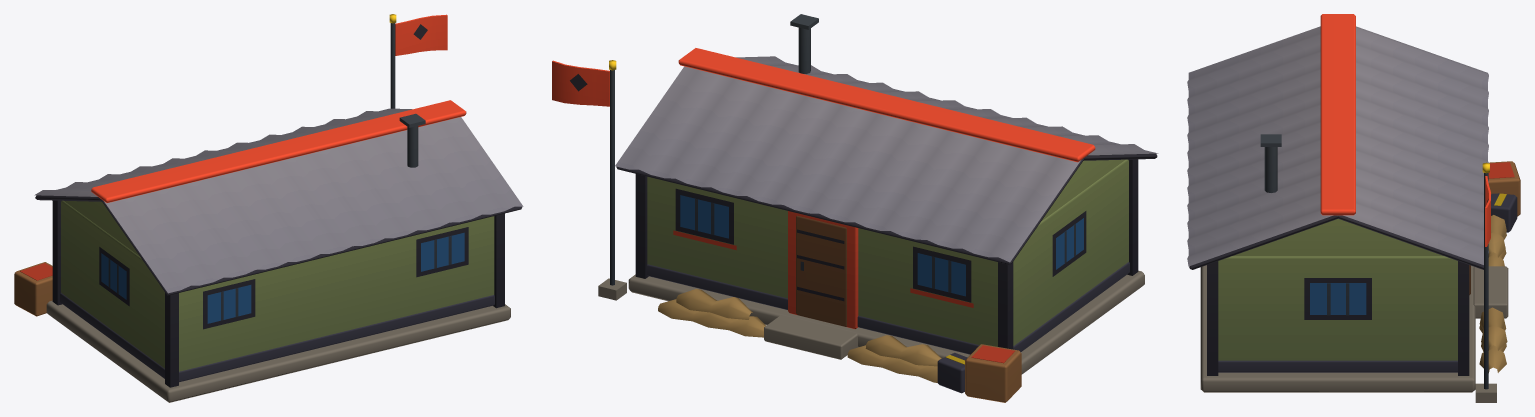
Rendered from barracks-hut.glb.
3 views of the same model, side by side, from view 1: azimuth 30°, elevation 25°; view 2: azimuth 150°, elevation 25°; view 3: azimuth 270°, elevation 25° (orthographic). The views are drawn at different scales.
Parts seen in each view (by area): view 1: barracks-hut Ash grey, barracks-hut Olive khaki, barracks-hut Ember paint, barracks-hut Concrete shade, barracks-hut Ashen charcoal, barracks-hut Ashen slate, barracks-hut Tinted glass, barracks-hut Gunmetal, barracks-hut Warm wood; view 2: barracks-hut Ash grey, barracks-hut Olive khaki, barracks-hut Ember paint, barracks-hut Ashen charcoal, barracks-hut Concrete shade, barracks-hut Ashen slate, barracks-hut Sand webbing, barracks-hut Dark wood, barracks-hut Tinted glass, barracks-hut Gunmetal, barracks-hut Warm wood; view 3: barracks-hut Ash grey, barracks-hut Olive khaki, barracks-hut Concrete shade, barracks-hut Ember paint, barracks-hut Ashen charcoal, barracks-hut Ashen slate, barracks-hut Sand webbing, barracks-hut Gunmetal, barracks-hut Tinted glass, barracks-hut Warm wood.
Boxes of the visible parts, x1,y1,x2,y2 form: barracks-hut Ash grey: (34,108,523,293); barracks-hut Olive khaki: (61,200,494,371); barracks-hut Ember paint: (20,14,466,280); barracks-hut Concrete shade: (46,300,510,402); barracks-hut Ashen charcoal: (35,24,522,387); barracks-hut Ashen slate: (60,293,494,382); barracks-hut Tinted glass: (101,232,464,323); barracks-hut Gunmetal: (108,23,451,320); barracks-hut Warm wood: (14,262,52,316); barracks-hut Ash grey: (615,56,1158,262); barracks-hut Olive khaki: (647,159,1128,346); barracks-hut Ember paint: (552,48,1095,363); barracks-hut Ashen charcoal: (570,74,1157,349); barracks-hut Concrete shade: (598,270,1144,374); barracks-hut Ashen slate: (646,262,1129,393); barracks-hut Sand webbing: (658,288,941,382); barracks-hut Dark wood: (796,215,846,326); barracks-hut Tinted glass: (680,195,1083,296); barracks-hut Gunmetal: (610,14,1075,292); barracks-hut Warm wood: (965,344,1021,402); barracks-hut Ash grey: (1187,26,1488,266); barracks-hut Olive khaki: (1218,219,1457,360); barracks-hut Concrete shade: (1200,265,1508,402); barracks-hut Ember paint: (1320,14,1514,246); barracks-hut Ashen charcoal: (1189,199,1488,375); barracks-hut Ashen slate: (1218,193,1517,372); barracks-hut Sand webbing: (1479,215,1507,372); barracks-hut Gunmetal: (1260,134,1488,389); barracks-hut Tinted glass: (1310,283,1366,314); barracks-hut Warm wood: (1488,161,1520,216).
Bounding box in the file's own units: 7.7 × 3.66 × 4.73.
12 materials, 11 textured.
